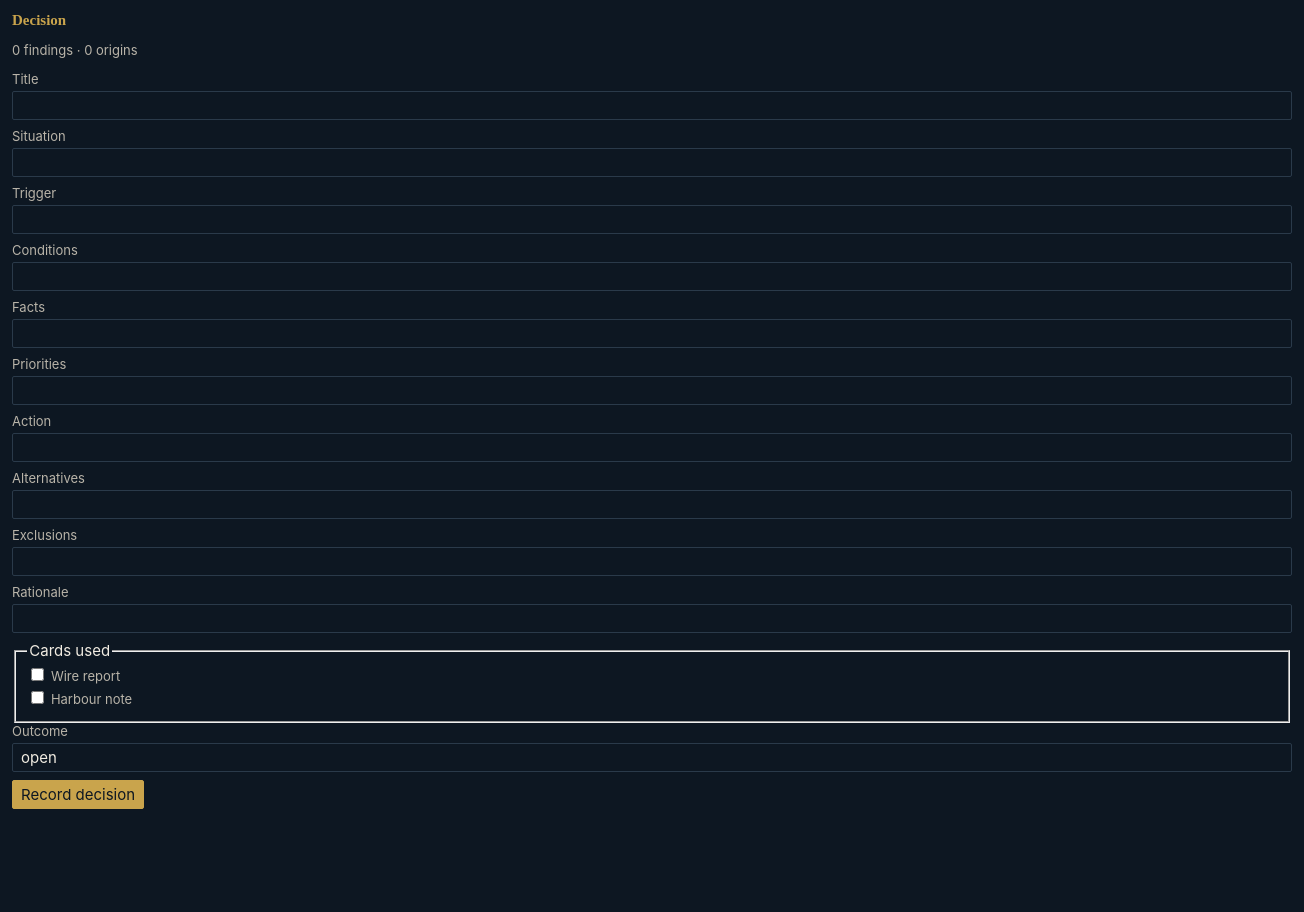
it: source pass on the board › counts the cards a decision uses, and nothing before one is chosen
The width and height of the screenshot is (1304, 912).
Expected: the text with test id "decision-source-pass" reads "0 findings · 0 origins", [12, 42, 138, 58]
Click the checkbox labelled "Wire report": (38,675) [31, 668, 44, 681]
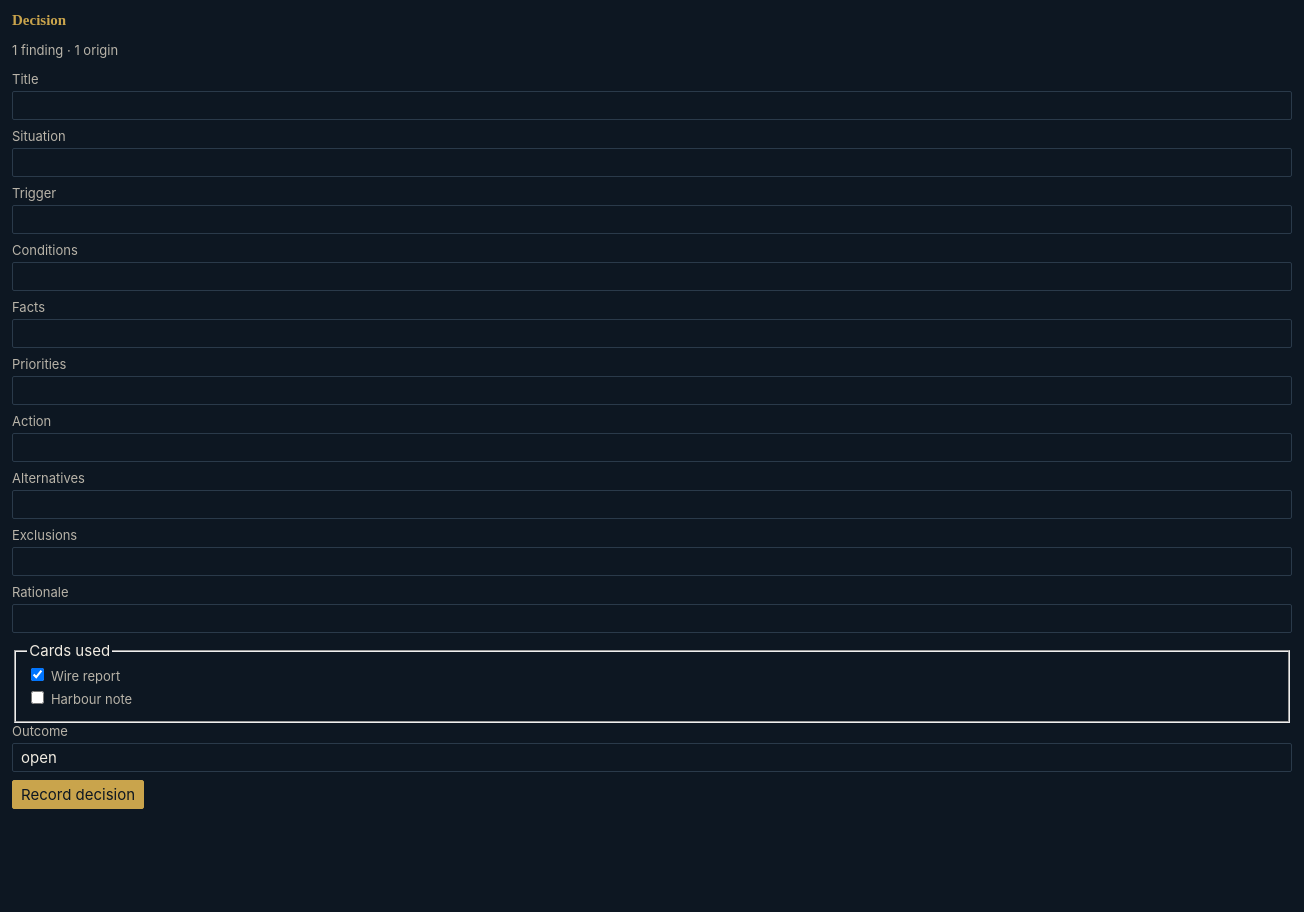
Now the text with test id "decision-source-pass" reads "1 finding · 1 origin", box [12, 42, 118, 58]
Click the checkbox labelled "Harbour note": (38,698) [31, 691, 44, 704]
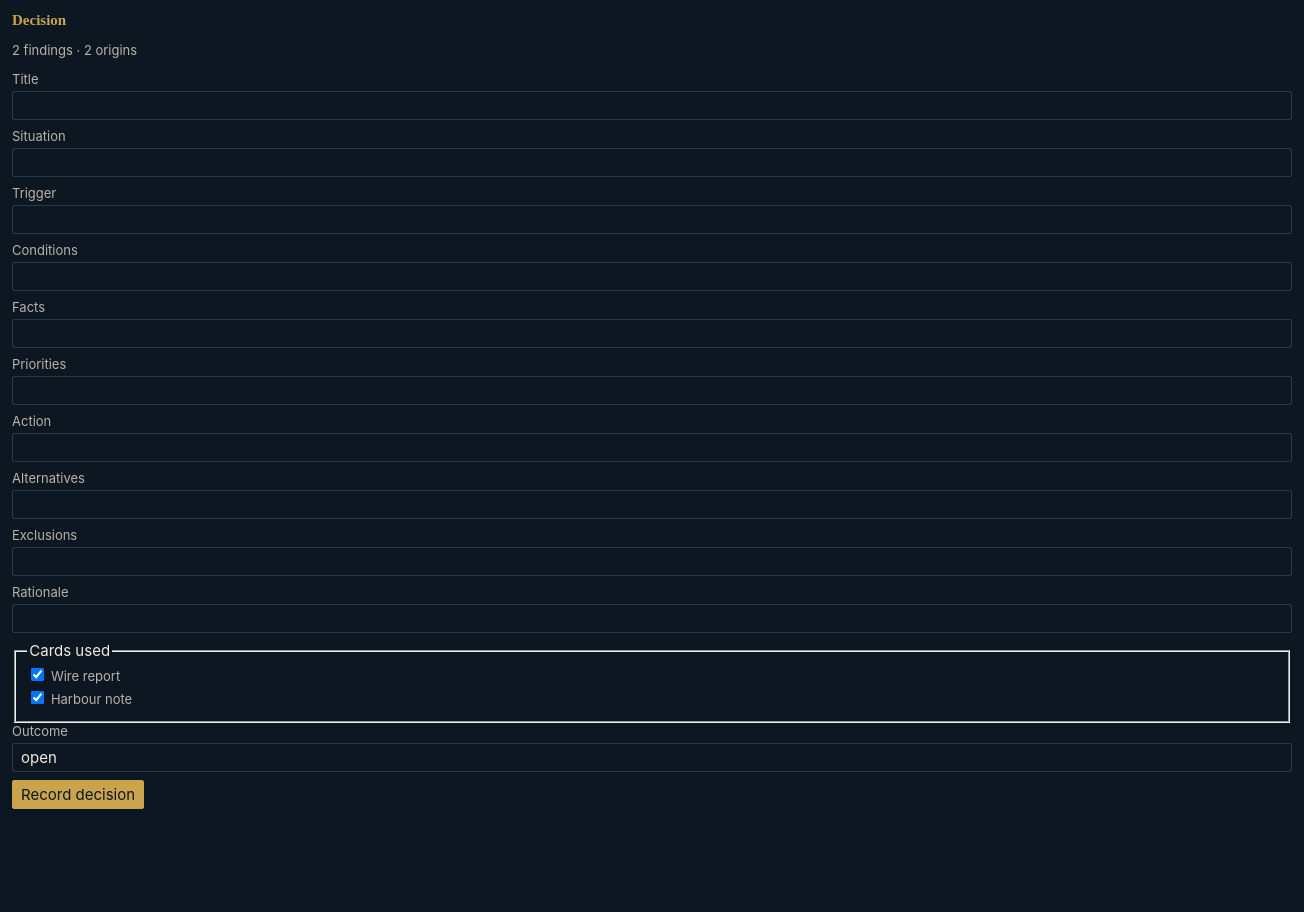
Now the text with test id "decision-source-pass" reads "2 findings · 2 origins", box [12, 42, 137, 58]
